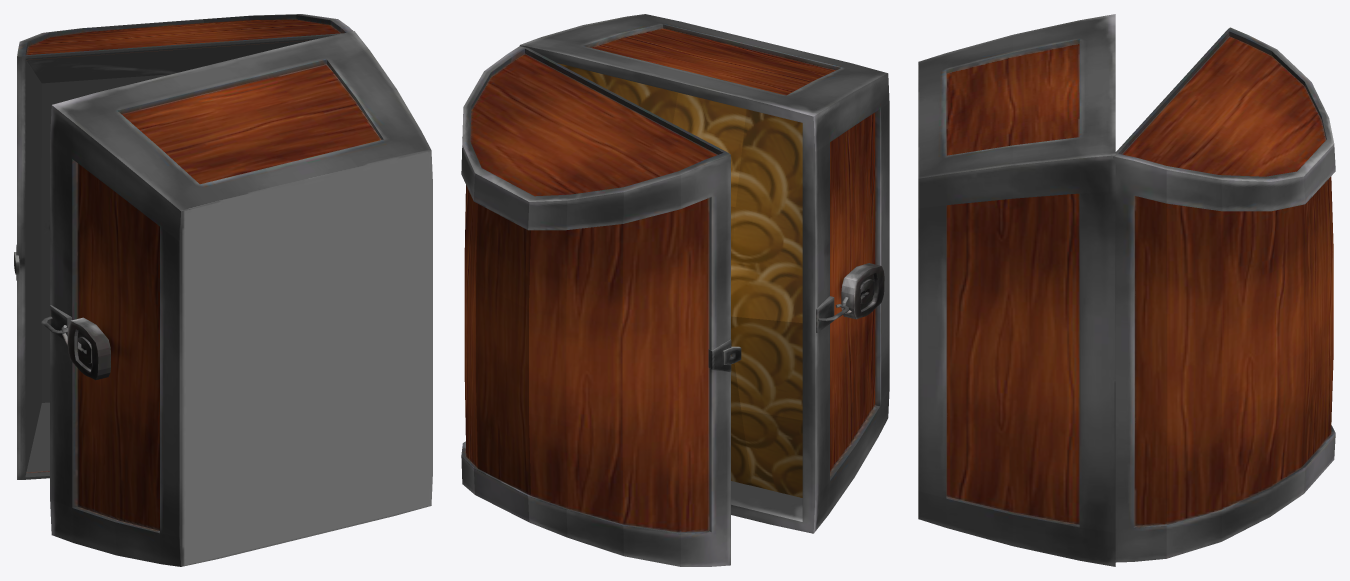
File: Cofre Fin.FBX
The picture shows the model from 3 angles, left to right: view 1: azimuth 30°, elevation 25°; view 2: azimuth 150°, elevation 25°; view 3: azimuth 270°, elevation 25°; orthographic projection. The views are drawn at different scales.
Parts seen in each view (by area): view 1: Cofre; view 2: Cofre; view 3: Cofre.
Boxes of the visible parts, bbox=[...] form: Cofre: bbox=[14, 14, 432, 566]; Cofre: bbox=[461, 14, 889, 566]; Cofre: bbox=[918, 14, 1335, 566].
Size of the model in its own units: 64.7 by 80.76 by 73.81.
1 material, 1 textured.
